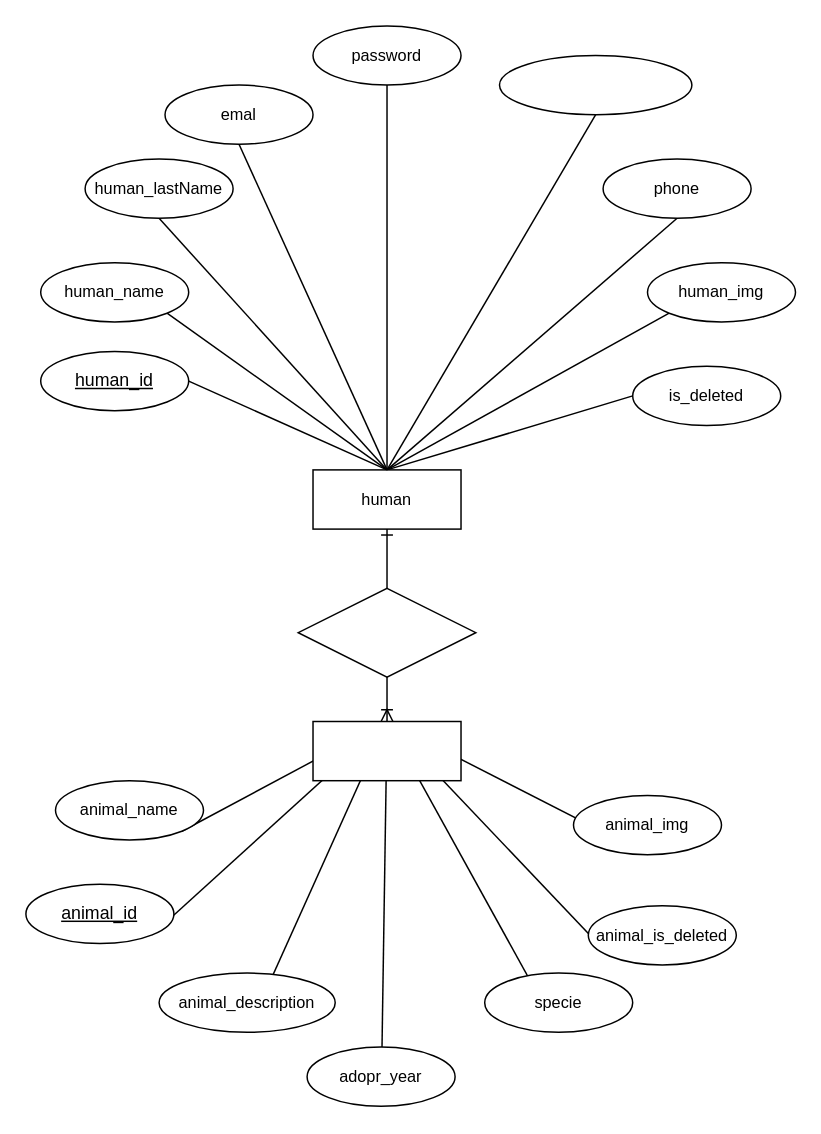
This 821x1134 diagram has some shape labels left out. Here are the shapes that lost their labels. From the top down, the centre of each, then its label:
At (595,84): "human_description".
At (386,632): "has".
At (386,750): "animal".
